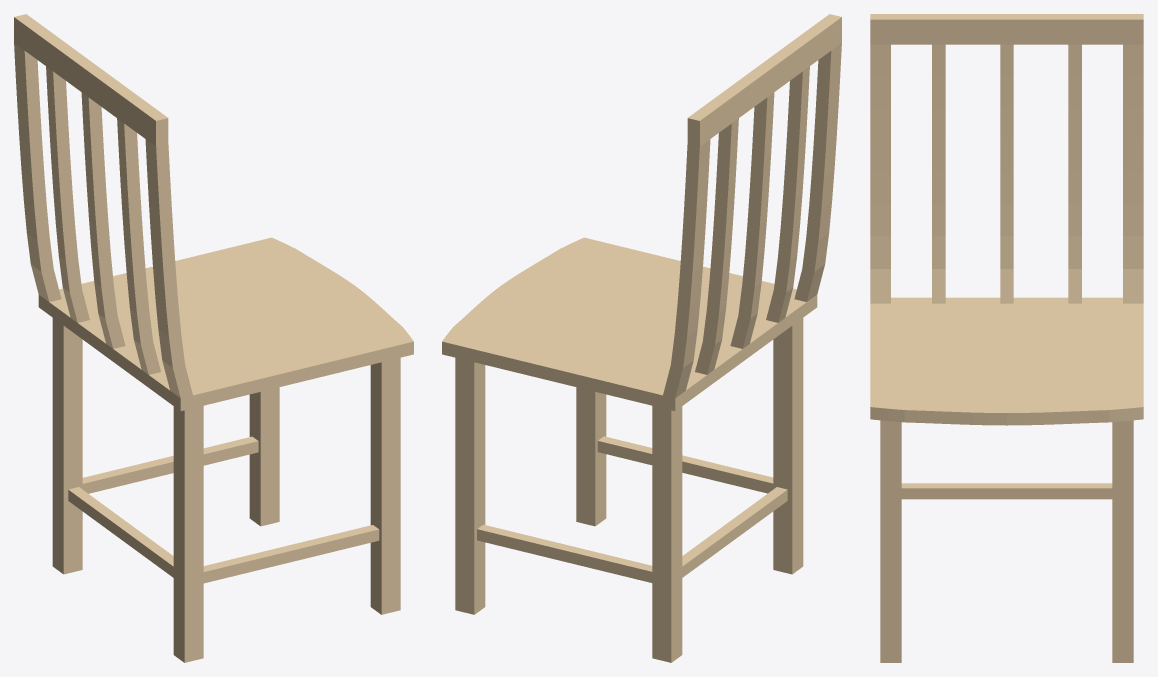
File: Wooden_chair.glb
The picture shows the model from 3 angles, left to right: view 1: azimuth 30°, elevation 25°; view 2: azimuth 150°, elevation 25°; view 3: azimuth 270°, elevation 25°; orthographic projection. The views are drawn at different scales.
Parts seen in each view (by area): view 1: Plane, Cube.001, Cube.003, Cube, Cube.005, Cube.006, Cube.004, Cube.009, Cube.007, Cube.008, Cube.002, Cube.011 (+2 smaller); view 2: Plane, Cube, Cube.002, Cube.001, Cube.004, Cube.006, Cube.005, Cube.007, Cube.009, Cube.008, Cube.003, Cube.012 (+2 smaller); view 3: Plane, Cube.006, Cube.004, Cube.005, Cube.002, Cube.003, Cube.007, Cube.008, Cube.009, Cube.010.
Boxes of the visible parts, box(x1,y1,x2,y2) form: Plane: box(38, 237, 413, 410); Cube.001: box(173, 406, 203, 662); Cube.003: box(370, 357, 400, 614); Cube: box(52, 318, 82, 574); Cube.005: box(145, 139, 192, 398); Cube.006: box(14, 14, 168, 146); Cube.004: box(14, 43, 61, 301); Cube.009: box(46, 66, 89, 322); Cube.007: box(117, 118, 160, 374); Cube.008: box(81, 92, 125, 348); Cube.002: box(249, 387, 279, 526); Cube.011: box(203, 525, 379, 583); Plane: box(442, 237, 817, 410); Cube: box(652, 406, 682, 662); Cube.002: box(455, 357, 485, 614); Cube.001: box(773, 318, 803, 574); Cube.004: box(663, 139, 710, 398); Cube.006: box(687, 14, 841, 146); Cube.005: box(794, 43, 841, 301); Cube.007: box(766, 66, 809, 322); Cube.009: box(695, 118, 738, 374); Cube.008: box(730, 92, 774, 348); Cube.003: box(576, 387, 606, 526); Cube.012: box(477, 524, 652, 582); Plane: box(870, 297, 1143, 425); Cube.006: box(870, 14, 1143, 44); Cube.004: box(1123, 44, 1143, 303); Cube.005: box(870, 44, 890, 303); Cube.002: box(1112, 420, 1133, 662); Cube.003: box(880, 420, 901, 662); Cube.007: box(932, 44, 945, 303); Cube.008: box(1000, 44, 1013, 303); Cube.009: box(1068, 44, 1081, 303); Cube.010: box(901, 483, 1112, 499).
Bounding box in the file's own units: 2.2 × 4.3 × 2.
